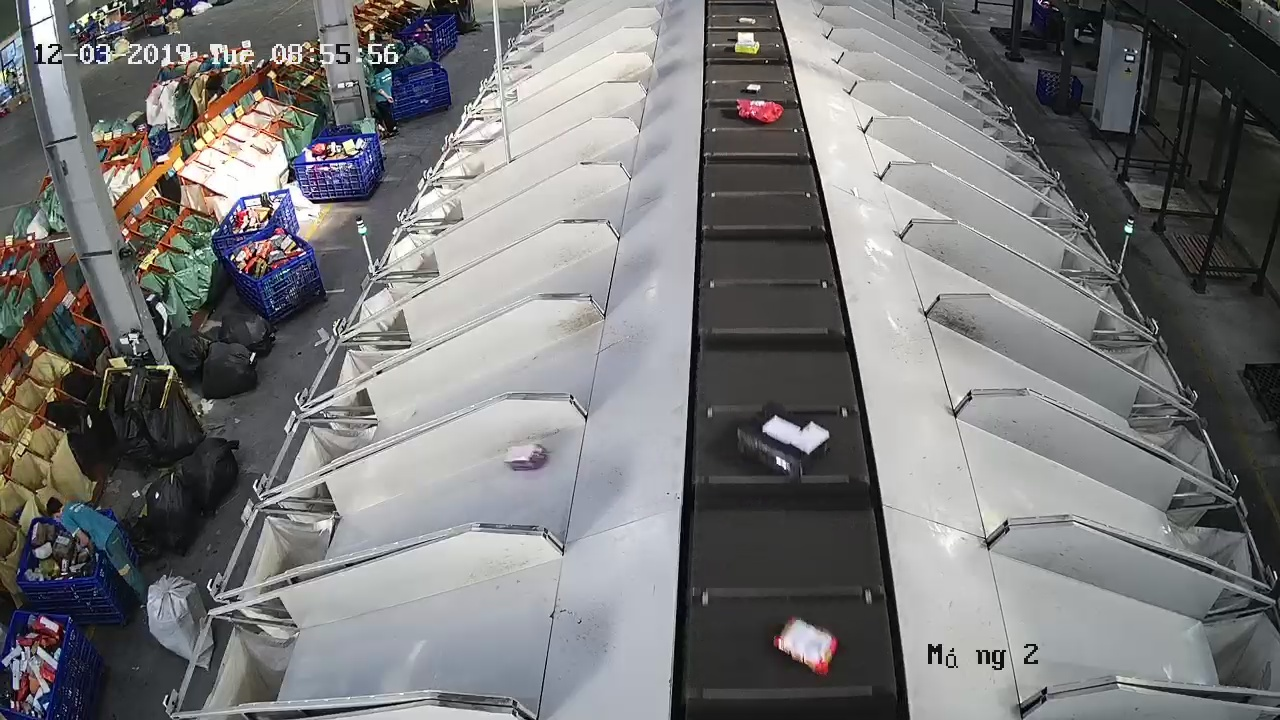parcel: (736, 401, 831, 482), (772, 614, 840, 678), (503, 442, 549, 471)
